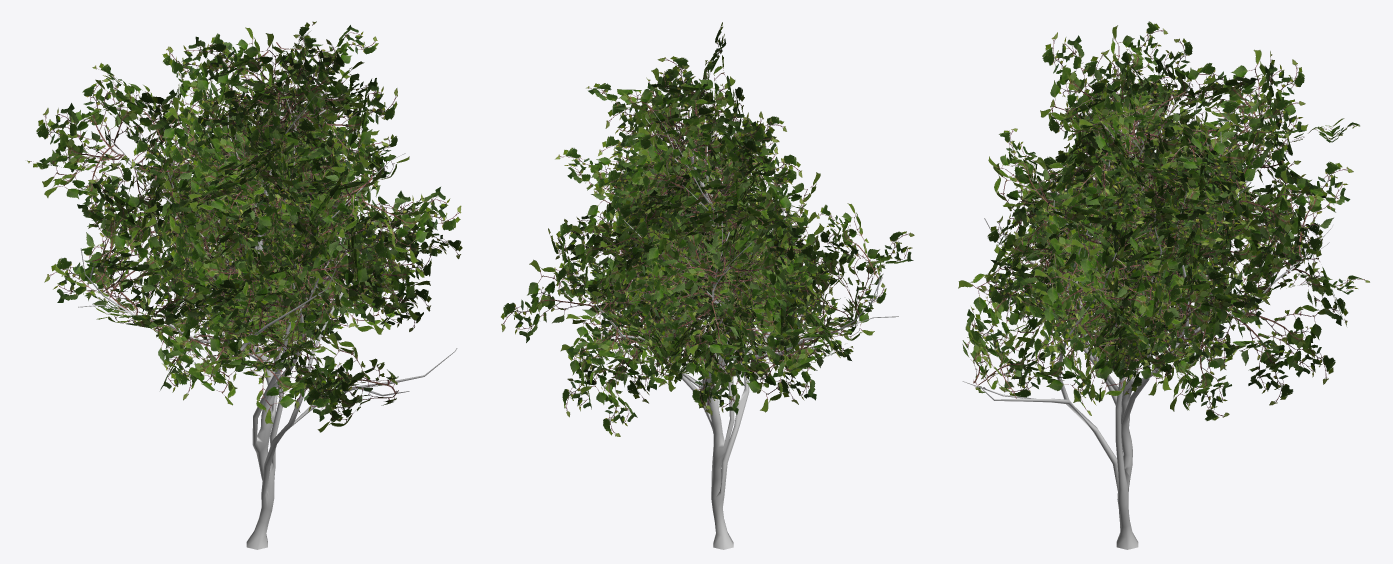
The model's file is Tree.fbx.
The picture shows the model from 3 angles, left to right: view 1: azimuth 30°, elevation 25°; view 2: azimuth 150°, elevation 25°; view 3: azimuth 270°, elevation 25°; orthographic projection. The views are drawn at different scales.
Parts seen in each view (by area): view 1: Folliage, Trunk; view 2: Folliage, Trunk; view 3: Folliage, Trunk.
Boxes of the visible parts, <box> form: Folliage: <box>27,21,462,432</box>; Trunk: <box>78,43,457,549</box>; Folliage: <box>501,22,914,436</box>; Trunk: <box>596,80,898,549</box>; Folliage: <box>958,21,1369,420</box>; Trunk: <box>962,87,1333,549</box>.
Bounding box in the file's own units: 1016 × 1420 × 1015.
